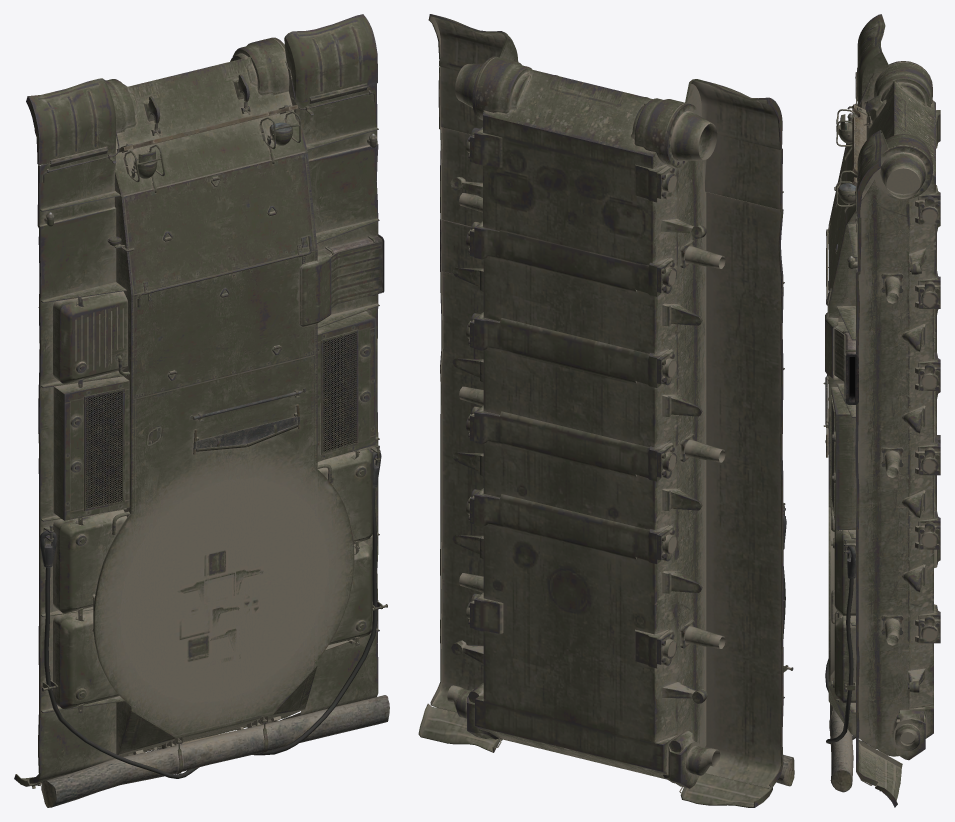
Rendered from Hull.glb.
3 renders of one model, left to right at view 1: azimuth 30°, elevation 25°; view 2: azimuth 150°, elevation 25°; view 3: azimuth 270°, elevation 25°, orthographic. The views are drawn at different scales.
Visible parts, largest first — view 1: set_0_group_0; view 2: set_0_group_0; view 3: set_0_group_0.
Boxes of the visible parts, left/top/right/bottom form: set_0_group_0: left=14, top=14, right=389, bottom=807; set_0_group_0: left=418, top=14, right=794, bottom=807; set_0_group_0: left=823, top=14, right=940, bottom=807.
Bounding box in the file's own units: 3.26 × 6.42 × 1.06.
1 material, 1 textured.
